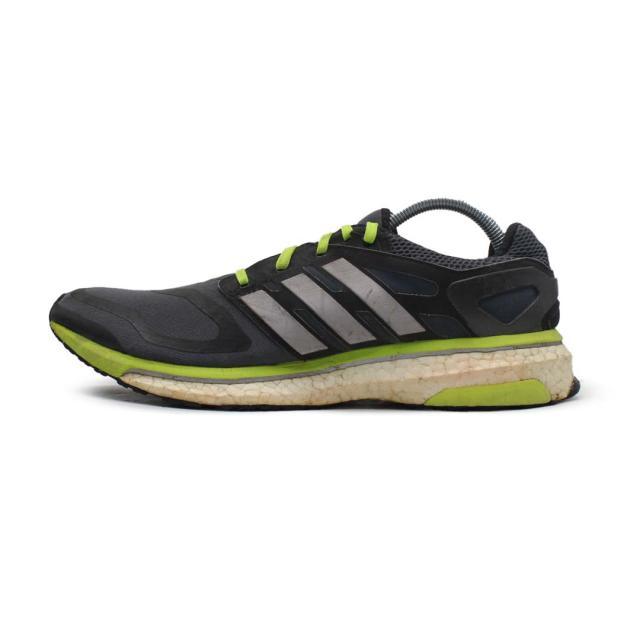heel: (496, 219, 559, 334)
midsole: (44, 312, 578, 409)
uppersole: (52, 209, 521, 361)
